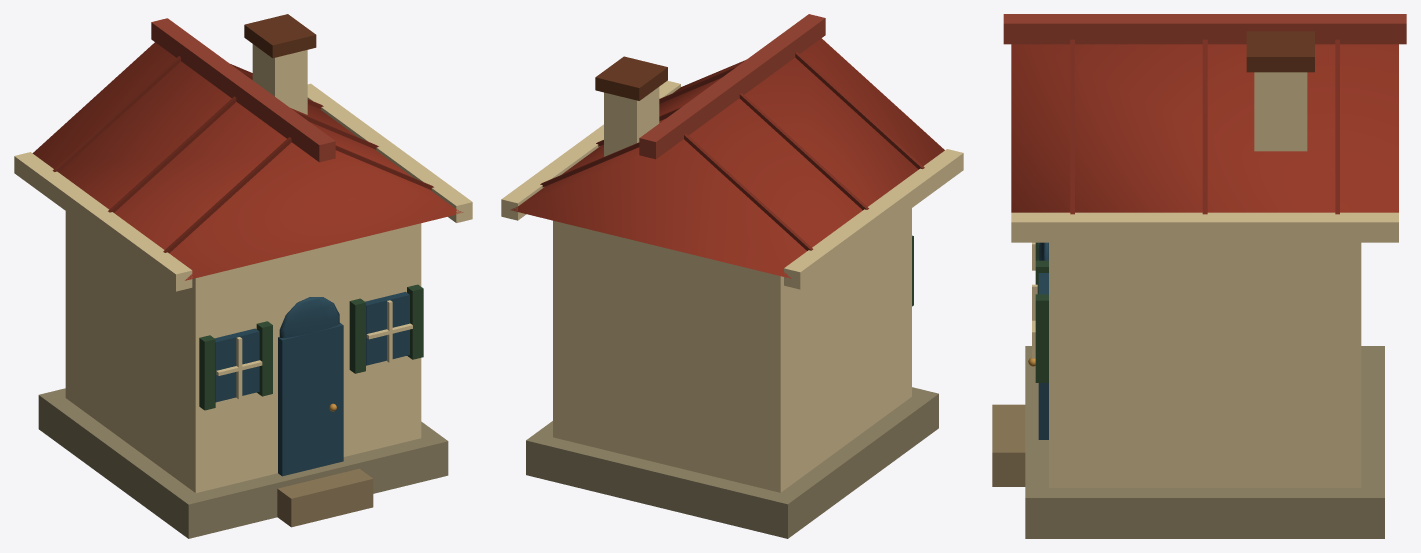
Rendered from house_basic.glb.
3 views of the same model, side by side, from view 1: azimuth 30°, elevation 25°; view 2: azimuth 150°, elevation 25°; view 3: azimuth 270°, elevation 25° (orthographic). The views are drawn at different scales.
Visible parts, largest first — view 1: _MeshInstance3D_3, _MeshInstance3D_4, _MeshInstance3D_2, _MeshInstance3D_14, _MeshInstance3D_5, _MeshInstance3D_6, _MeshInstance3D_29, _MeshInstance3D_10, _MeshInstance3D_27, _MeshInstance3D_17, _MeshInstance3D_22, _MeshInstance3D_28 (+9 smaller); view 2: _MeshInstance3D_3, _MeshInstance3D_4, _MeshInstance3D_2, _MeshInstance3D_5, _MeshInstance3D_6, _MeshInstance3D_27, _MeshInstance3D_10, _MeshInstance3D_28, _MeshInstance3D_9, _MeshInstance3D_8, _MeshInstance3D_7, _MeshInstance3D_11; view 3: _MeshInstance3D_3, _MeshInstance3D_4, _MeshInstance3D_2, _MeshInstance3D_10, _MeshInstance3D_5, _MeshInstance3D_27, _MeshInstance3D_28, _MeshInstance3D_29, _MeshInstance3D_24, _MeshInstance3D_12, _MeshInstance3D_11, _MeshInstance3D_13 (+1 smaller).
Part boxes in pixels (box(x1,y1,x2,y2)): _MeshInstance3D_3: box(65, 211, 421, 492); _MeshInstance3D_4: box(32, 42, 463, 280); _MeshInstance3D_2: box(38, 388, 448, 538); _MeshInstance3D_14: box(278, 323, 343, 476); _MeshInstance3D_5: box(151, 18, 335, 162); _MeshInstance3D_6: box(14, 152, 192, 291); _MeshInstance3D_29: box(277, 468, 373, 527); _MeshInstance3D_10: box(307, 83, 472, 222); _MeshInstance3D_27: box(252, 44, 307, 114); _MeshInstance3D_17: box(215, 328, 259, 402); _MeshInstance3D_22: box(365, 291, 409, 365); _MeshInstance3D_28: box(244, 14, 316, 58); _MeshInstance3D_3: box(553, 208, 911, 492); _MeshInstance3D_4: box(510, 38, 944, 278); _MeshInstance3D_2: box(526, 387, 938, 538); _MeshInstance3D_5: box(639, 14, 825, 159); _MeshInstance3D_6: box(784, 149, 963, 289); _MeshInstance3D_27: box(604, 87, 659, 156); _MeshInstance3D_10: box(501, 80, 680, 220); _MeshInstance3D_28: box(595, 56, 667, 100); _MeshInstance3D_9: box(795, 52, 924, 169); _MeshInstance3D_8: box(739, 93, 868, 209); _MeshInstance3D_7: box(684, 134, 813, 250); _MeshInstance3D_11: box(540, 142, 639, 187); _MeshInstance3D_3: box(1049, 242, 1361, 487); _MeshInstance3D_4: box(1011, 44, 1398, 212); _MeshInstance3D_2: box(1025, 346, 1384, 538); _MeshInstance3D_10: box(1011, 212, 1398, 242); _MeshInstance3D_5: box(1003, 14, 1406, 44); _MeshInstance3D_27: box(1254, 72, 1307, 151); _MeshInstance3D_28: box(1246, 31, 1314, 72); _MeshInstance3D_29: box(992, 404, 1025, 486); _MeshInstance3D_24: box(1035, 294, 1048, 382); _MeshInstance3D_12: box(1202, 39, 1207, 214); _MeshInstance3D_11: box(1335, 39, 1339, 214); _MeshInstance3D_13: box(1070, 39, 1074, 214).
Size of the model in its own units: 2.17 by 2.68 by 2.19.
